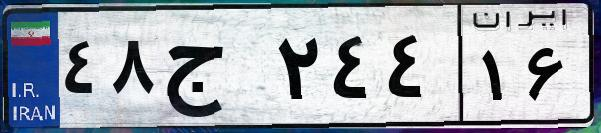1: (475, 38, 525, 113)
2: (270, 28, 330, 110)
4: (385, 28, 445, 110), (330, 28, 385, 110), (57, 26, 110, 100)
6: (525, 38, 570, 115)
8: (110, 28, 158, 98)
ج: (158, 20, 270, 120)
